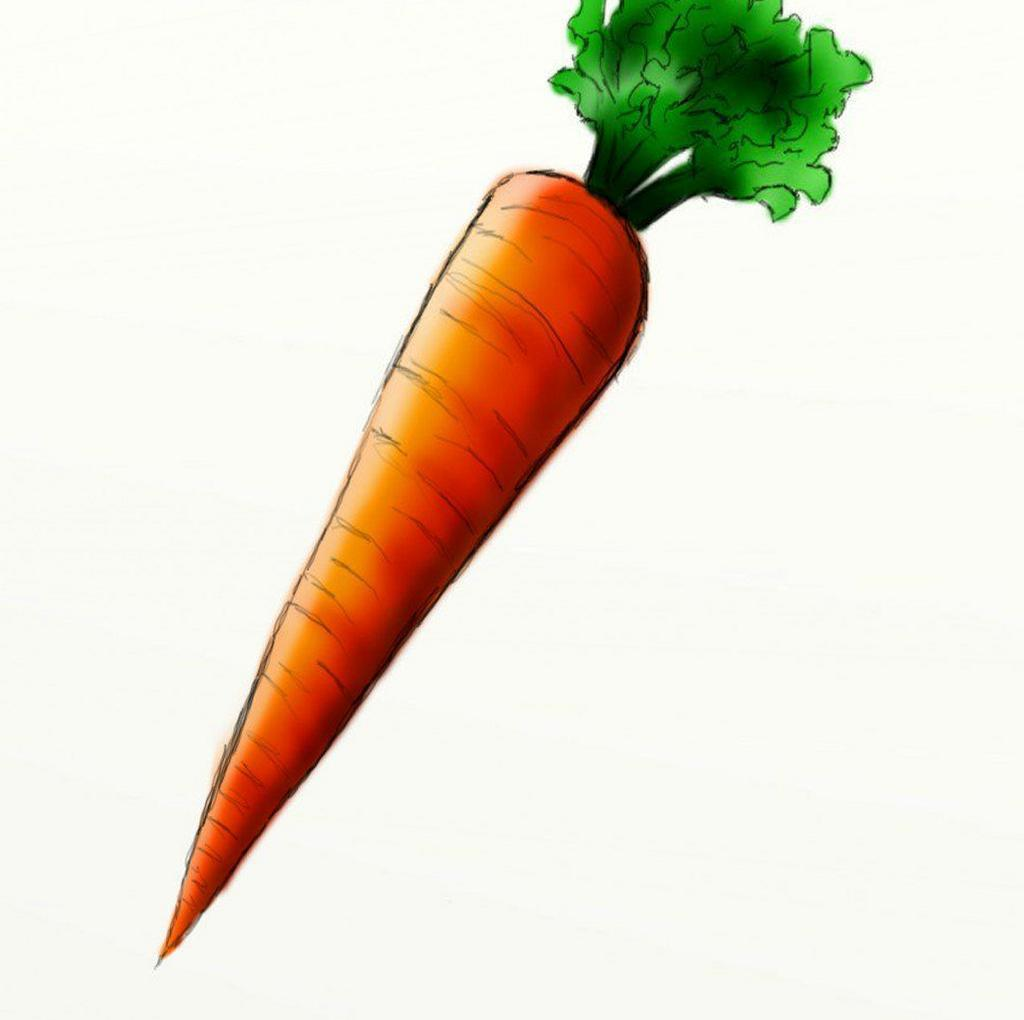carrot: (141, 30, 878, 946)
